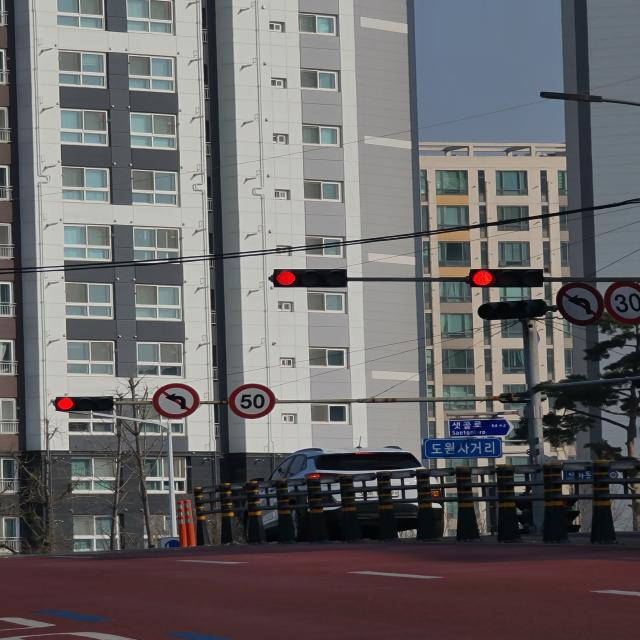Green Light: (521, 301, 540, 316)
Red Light: (272, 268, 298, 286), (472, 269, 494, 286), (56, 397, 74, 410)
